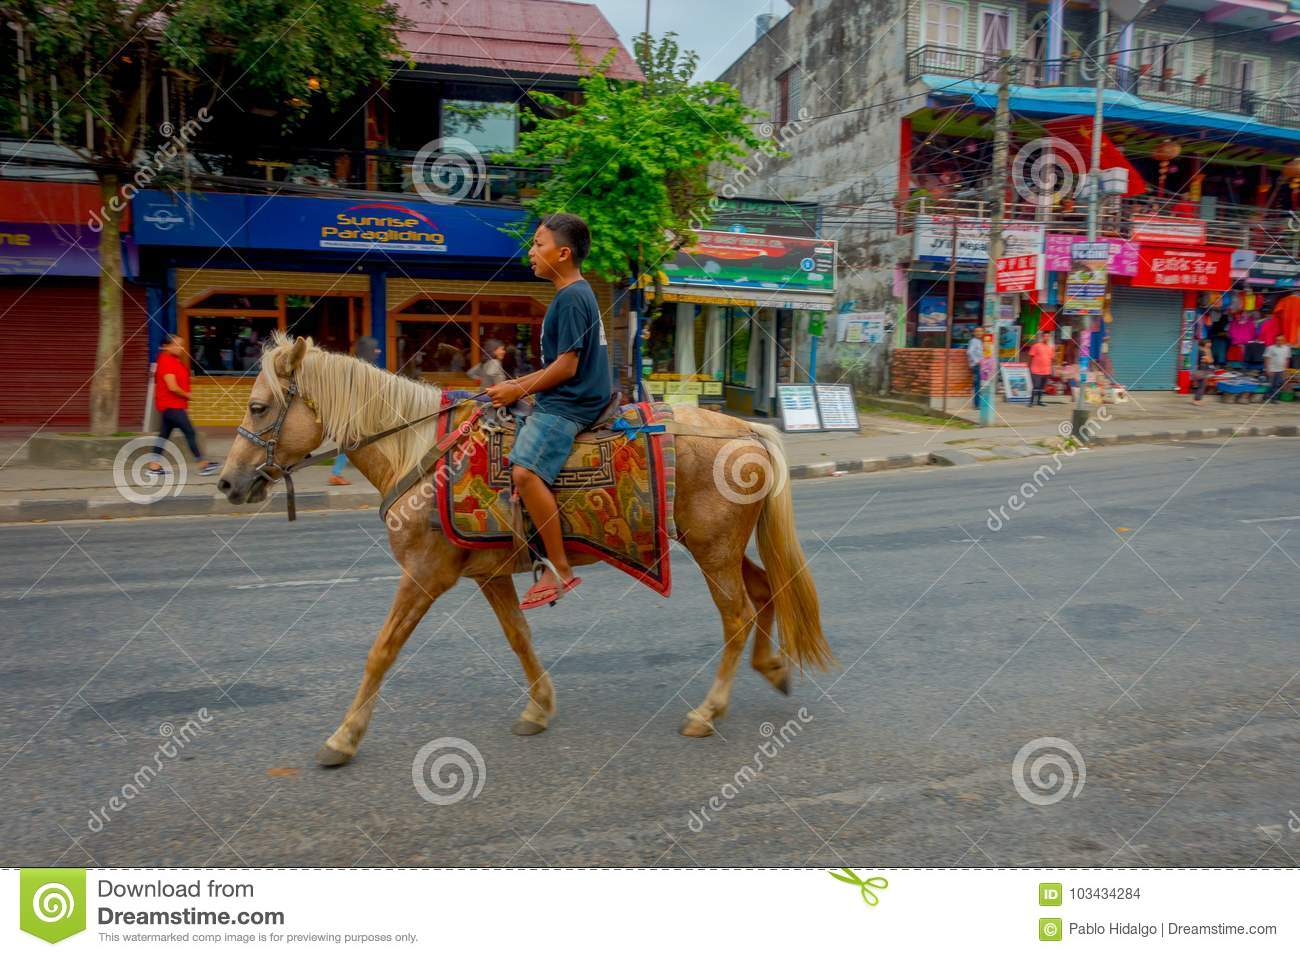human: (475, 209, 623, 655)
